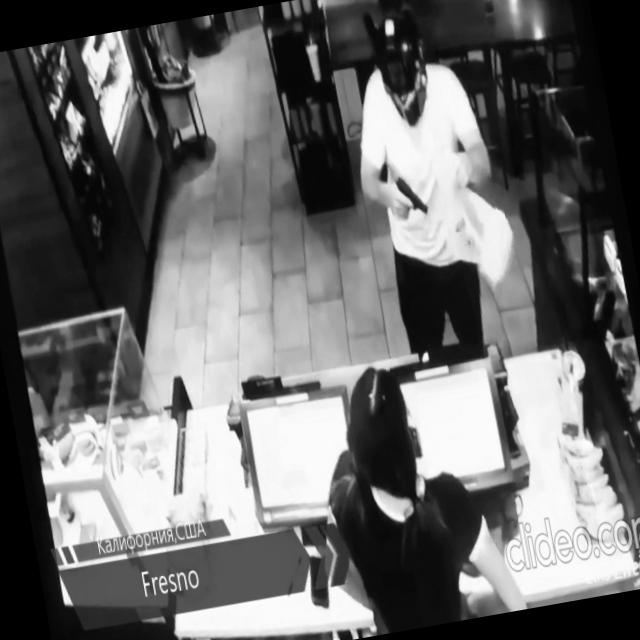gun: (392, 166, 432, 222)
person: (303, 342, 528, 640)
person with a gun: (329, 0, 521, 356)
